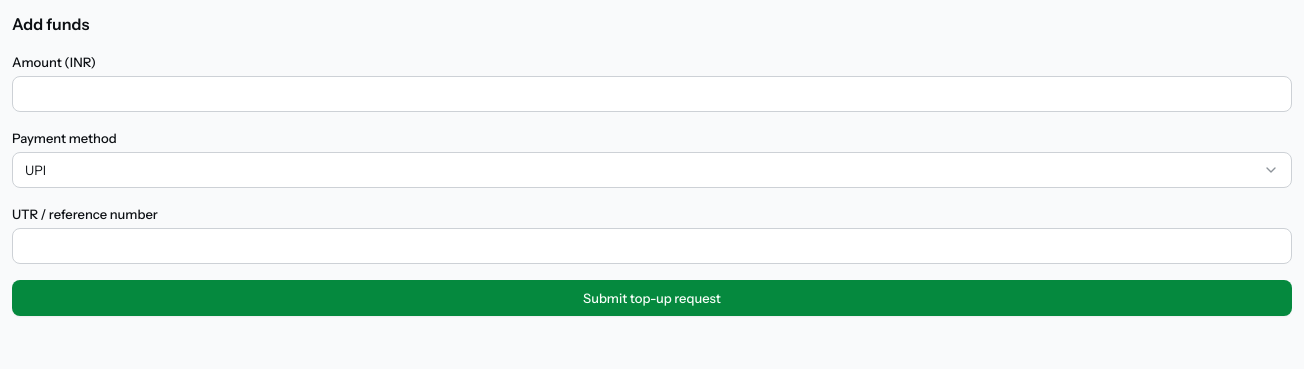
TopupRequestForm validation › a server VALIDATION_ERROR maps to a visible message, never a blank form
Type "100.00" into the field with test id "topup-amount-input". click: (652, 94)
box: [12,76,1292,112]
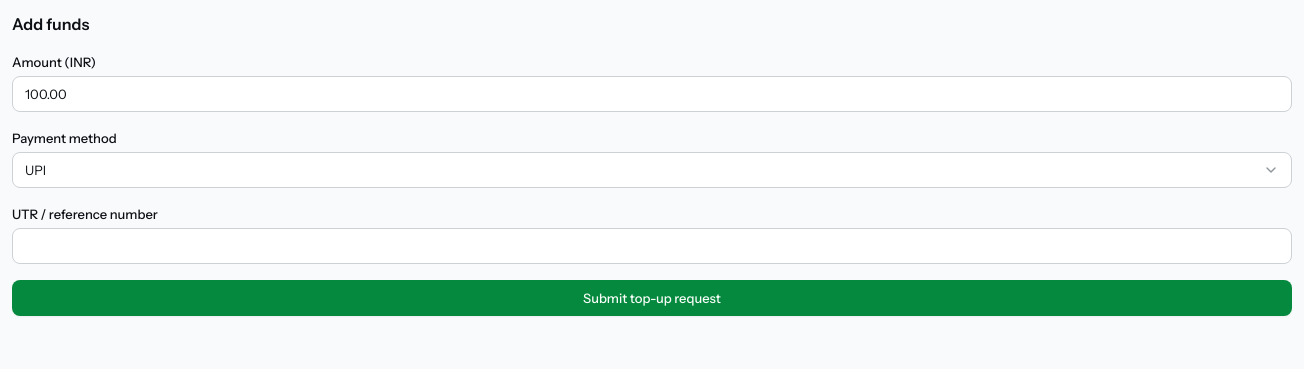
Type "UTR12345" into the field with test id "topup-utr-input". click: (652, 246)
box: [12,228,1292,264]
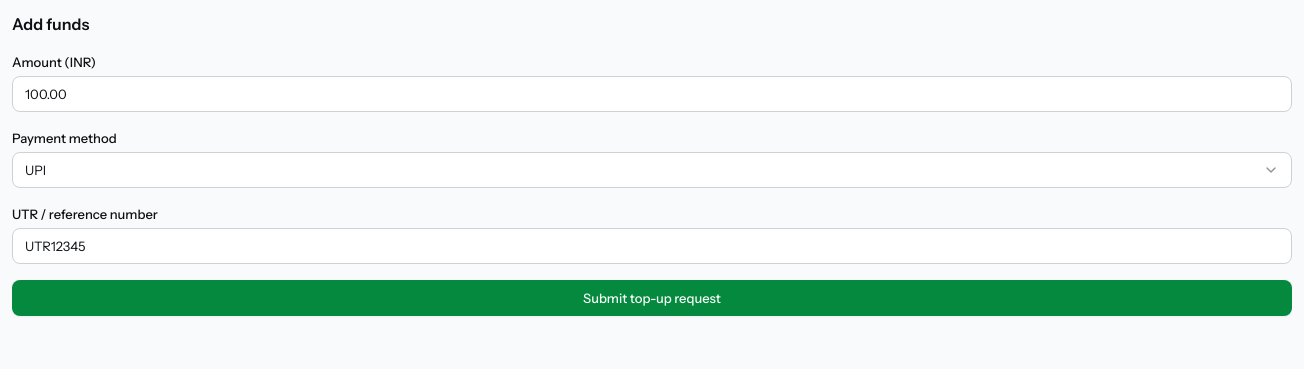
Click the button with test id "topup-form-submit". click: (652, 298)
box: [12,280,1292,316]
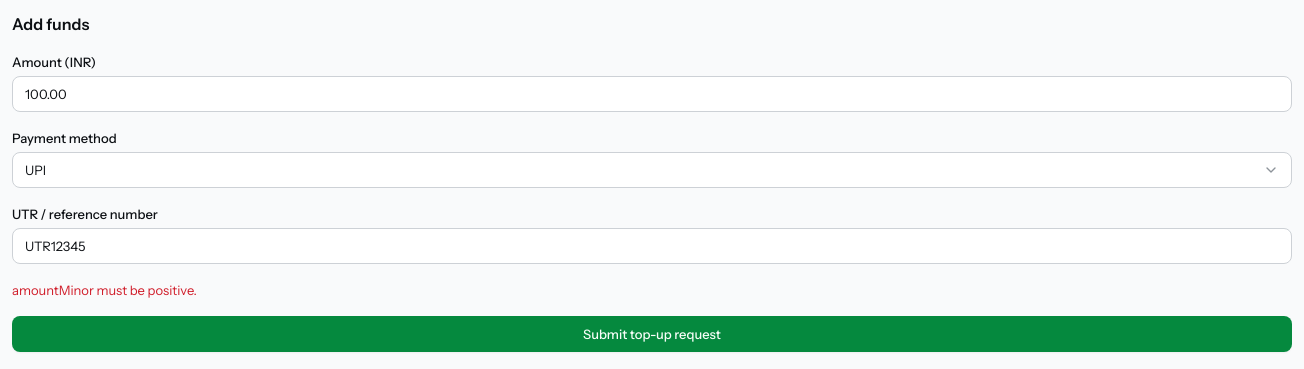
Expected: the message with test id "topup-form-error" reads "amountMinor must be positive.", [12,282,197,298]
